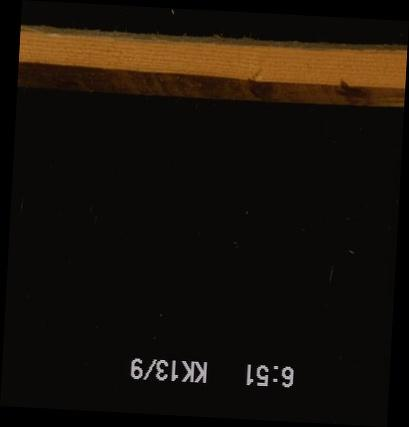wave: (18, 69, 404, 101), (20, 27, 404, 50)
